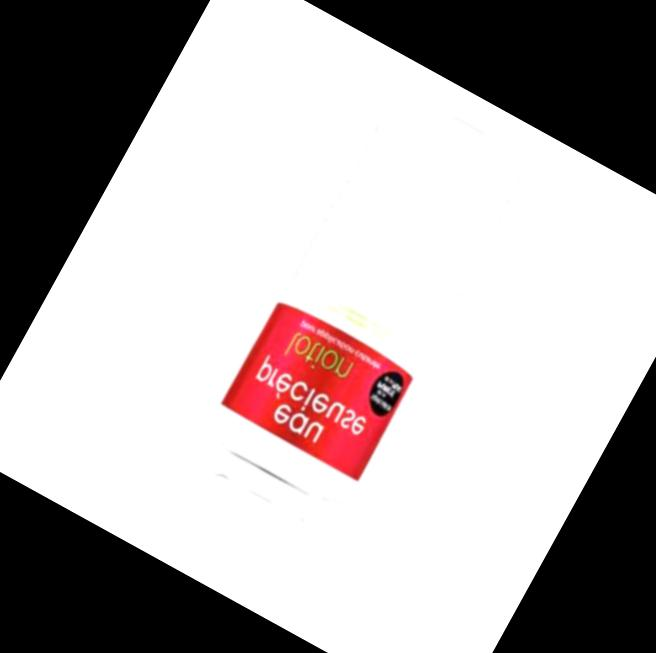cosmetic: (158, 102, 524, 589)
